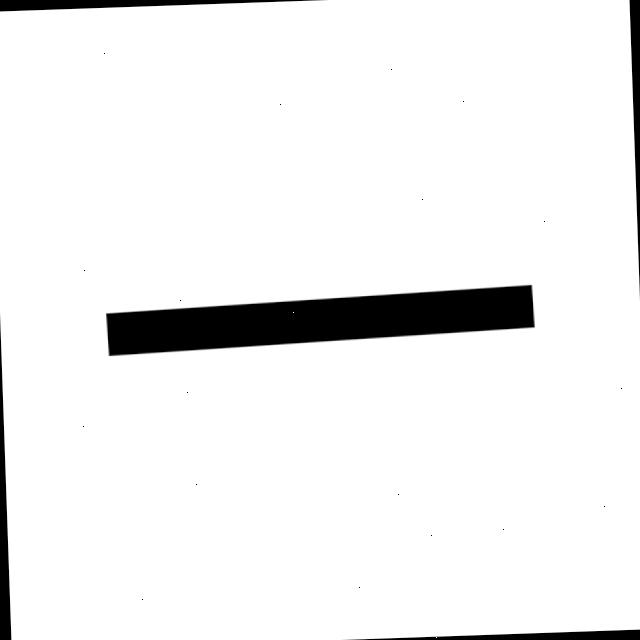line: (106, 284, 535, 356)
